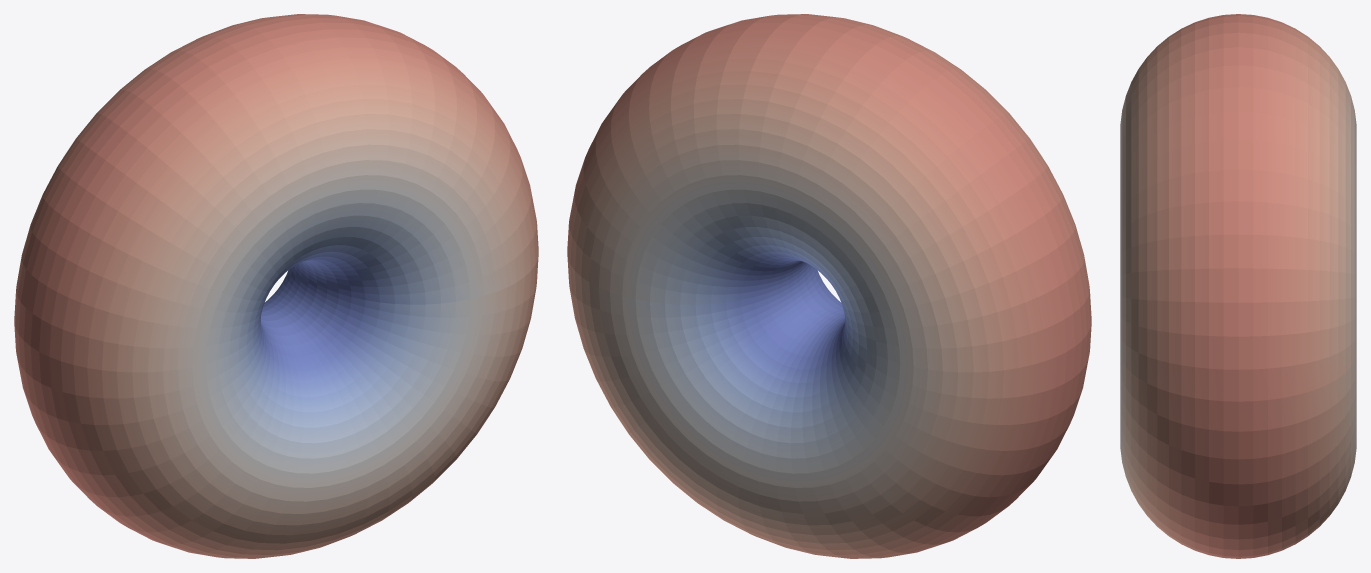
3 views of the same model, side by side, from view 1: azimuth 30°, elevation 25°; view 2: azimuth 150°, elevation 25°; view 3: azimuth 270°, elevation 25° (orthographic). The views are drawn at different scales.
Parts seen in each view (by area): view 1: world; view 2: world; view 3: world.
Part boxes in pixels (bbox=[...]): world: bbox=[14, 14, 538, 558]; world: bbox=[567, 14, 1091, 558]; world: bbox=[1120, 14, 1356, 558].
Bounding box in the file's own units: 22.4 × 22.36 × 9.71.
